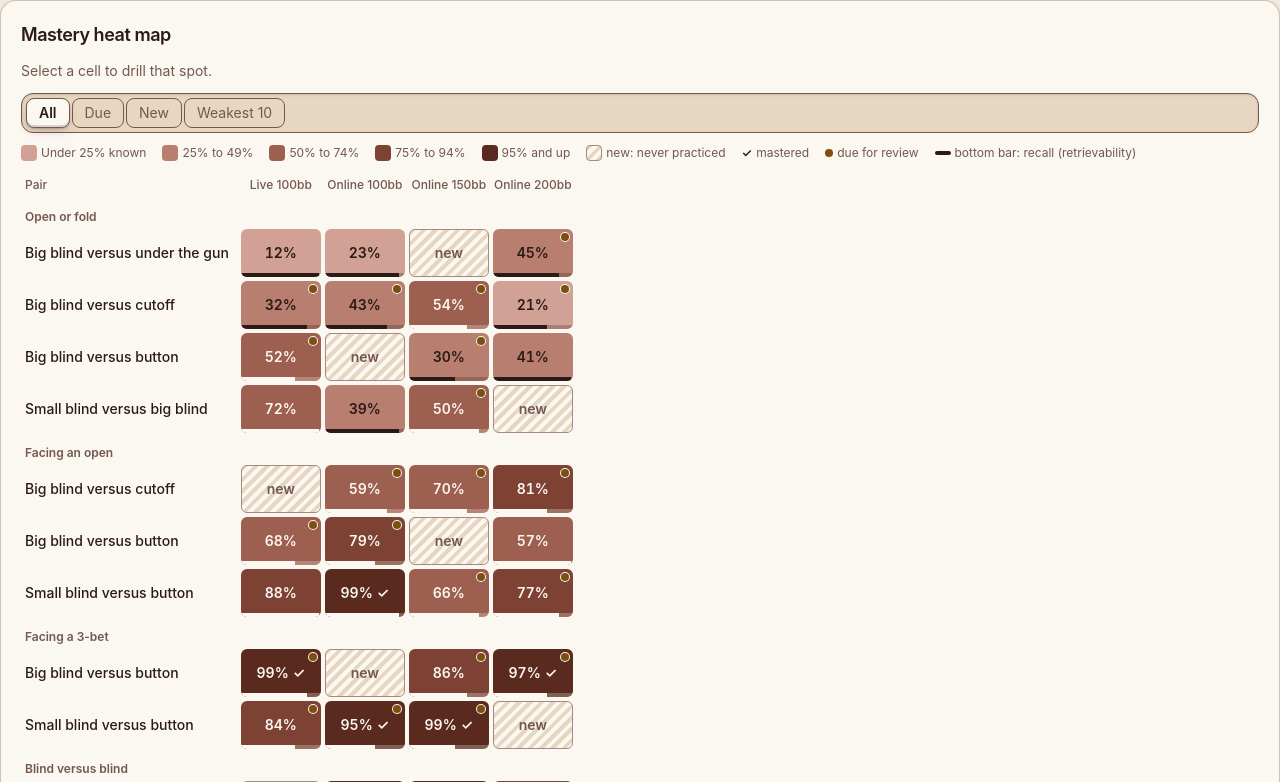
Test case: R4.19 MasteryHeatMap Show choice › R4.19 Show narrows the grid to due, new or the ten weakest classes, and a row with none is left out
The width and height of the screenshot is (1280, 782).
What coordinates should you click on to do the following:
click the radio button labelled "Due"
I would click on:
 (98, 113)
Its box is [72,98,124,128].
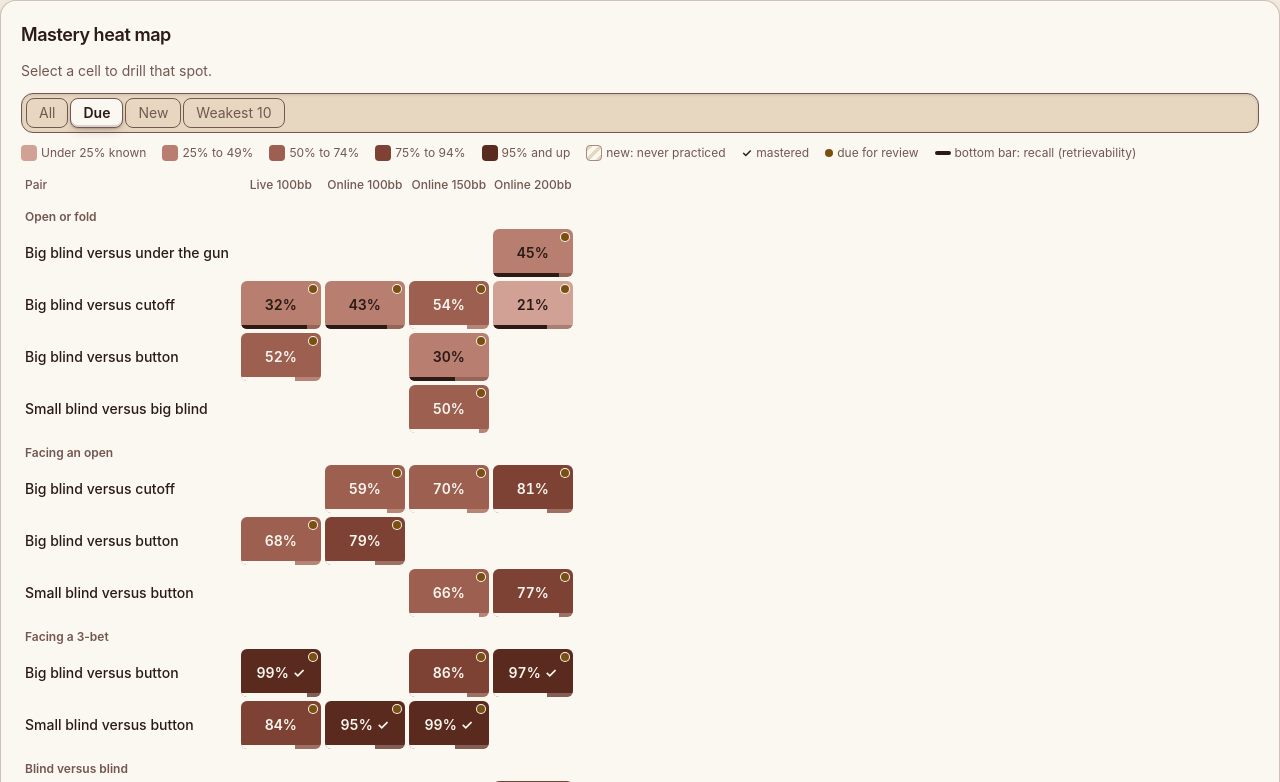
Expected: the number of buttons with test id "heat-cell" is 22
What coordinates should you click on to do the following:
click the radio button labelled "New"
I would click on:
 (153, 113)
Its box is [125,98,181,128].
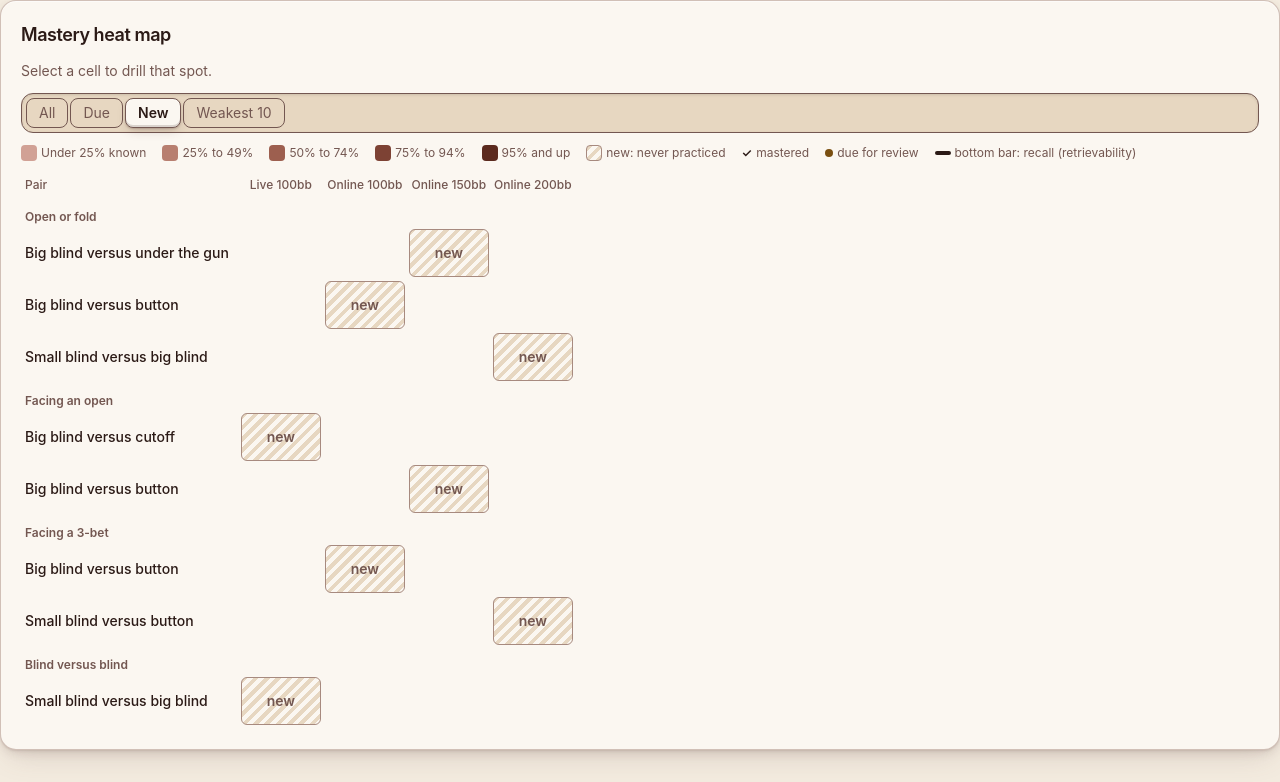
Expected: the number of buttons with test id "heat-cell" is 8
What coordinates should you click on to do the following:
click the radio button labelled "Weakest 10"
I would click on:
 (234, 113)
Its box is [184,98,285,128].
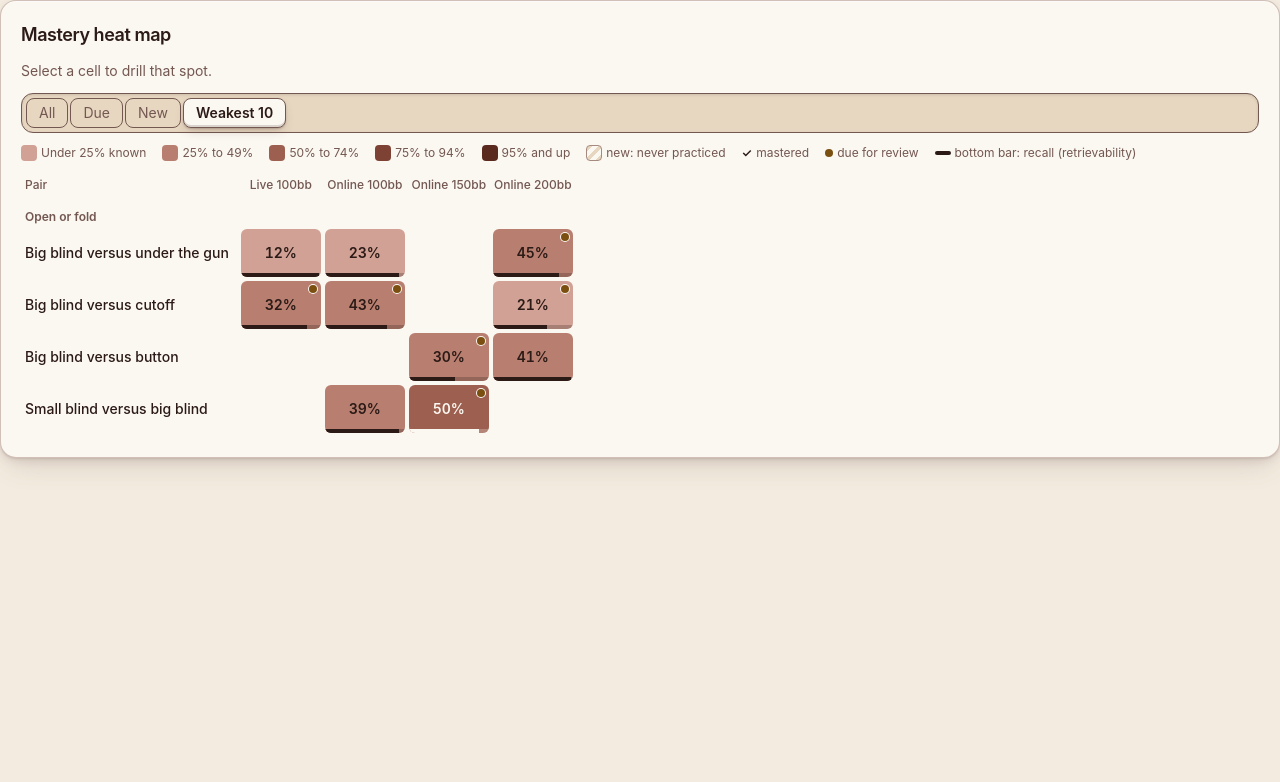
Expected: the number of buttons with test id "heat-cell" is 10
What coordinates should you click on to do the following:
click the radio button labelled "All"
I would click on:
 (47, 113)
Its box is [26,98,68,128].
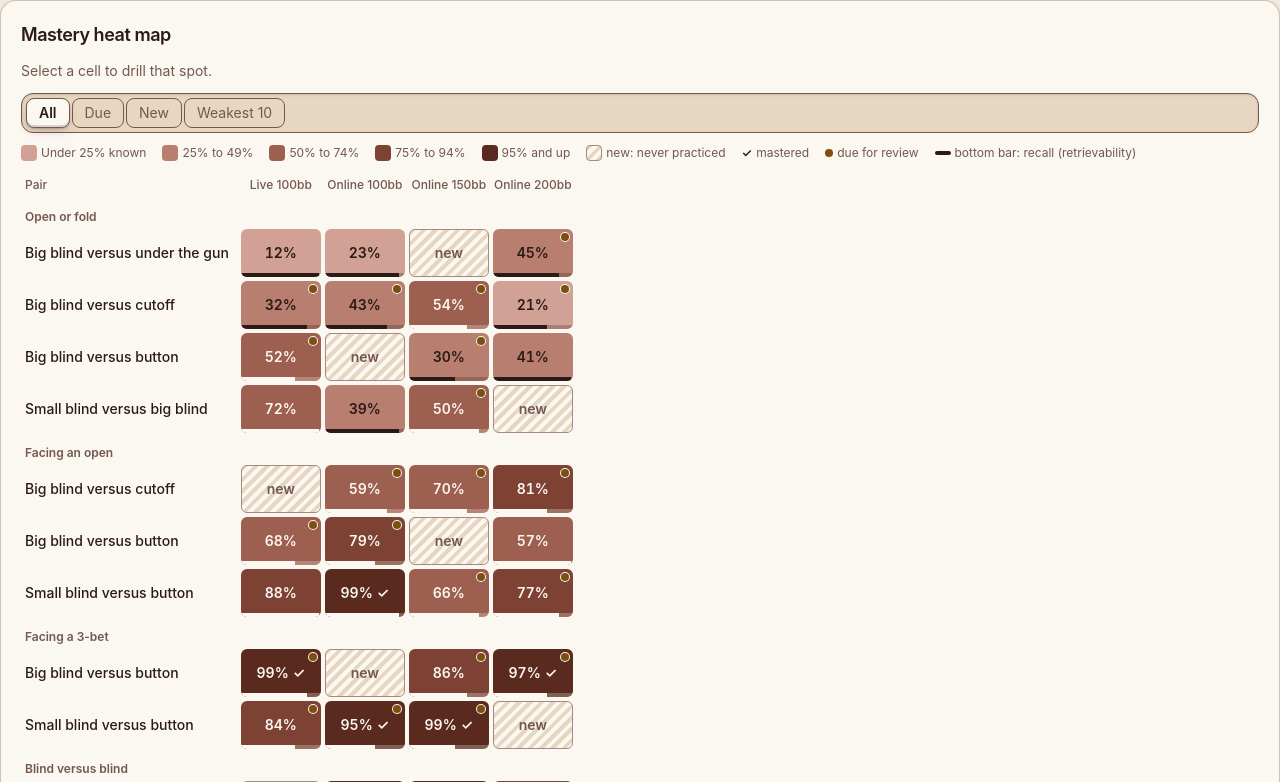
Expected: the number of buttons with test id "heat-cell" is 40
